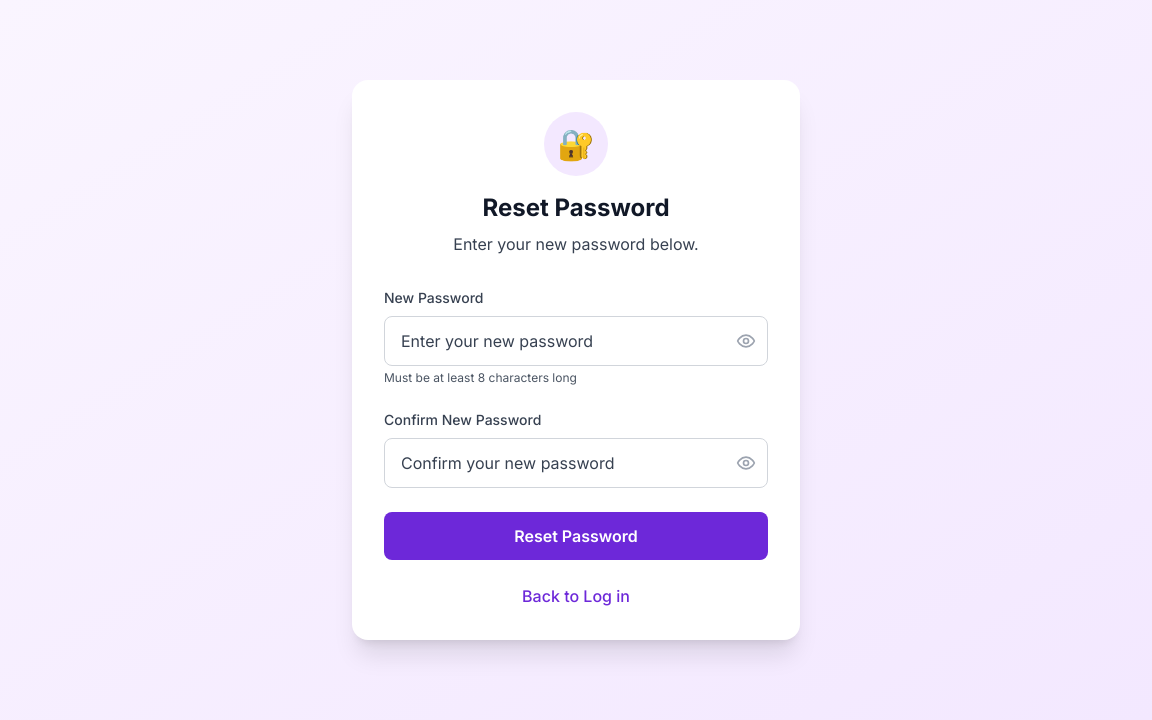
Test: Reset Password Validation › expired token shows backend error in banner
Check: the button with test id "reset-submit" is enabled, box [384, 512, 768, 560]
Type "password123" into the password field labelled "New Password" at (576, 341), box [384, 316, 768, 366]
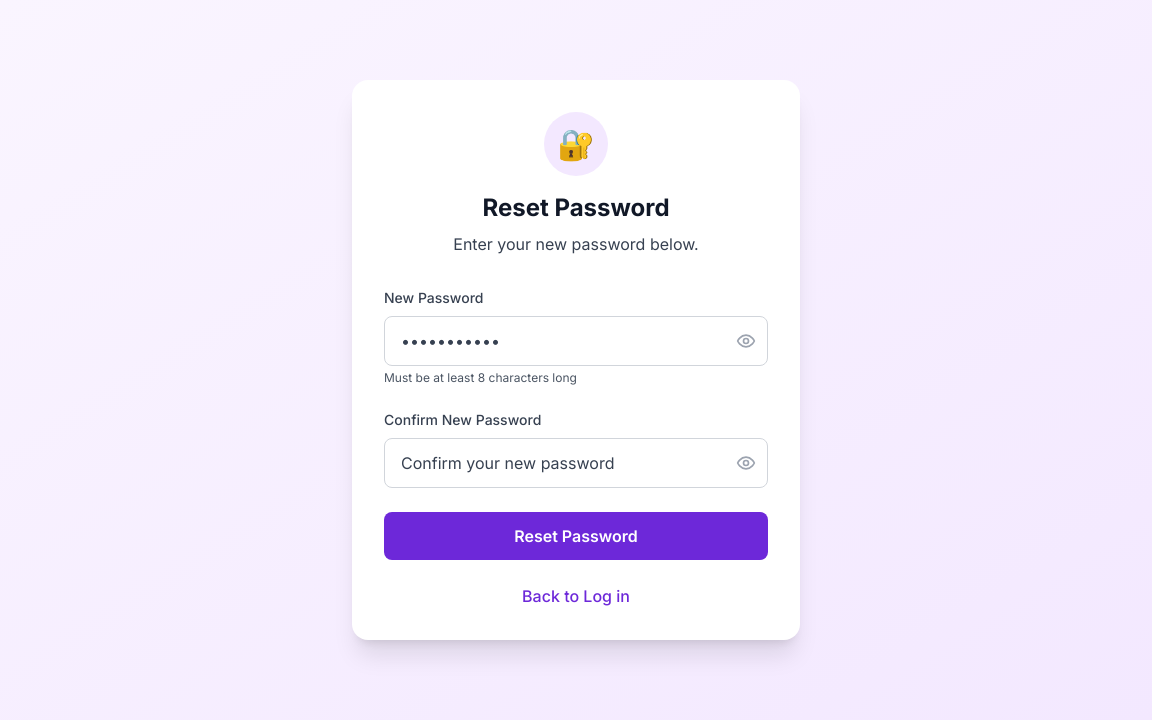
Type "password123" into the password field labelled "Confirm New Password" at (576, 463), box [384, 438, 768, 488]
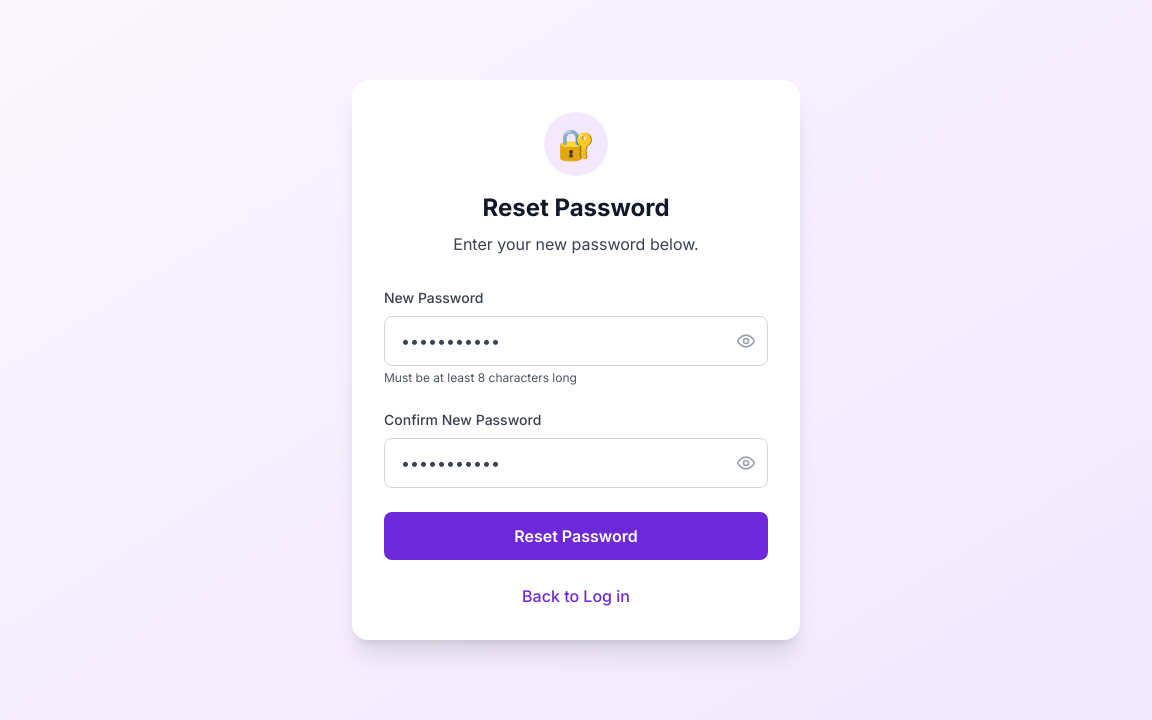
Click the button with test id "reset-submit" at (576, 536), box [384, 512, 768, 560]
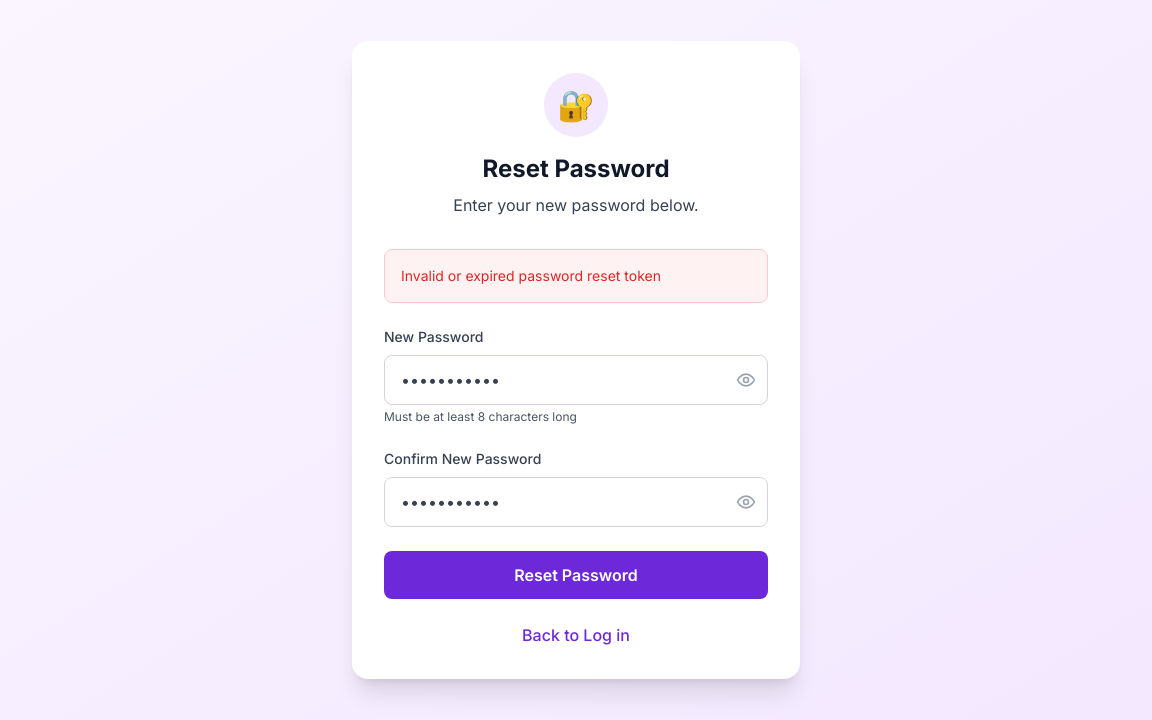
Check: the text "Invalid or expired password reset token" is shown, box [401, 267, 661, 284]
